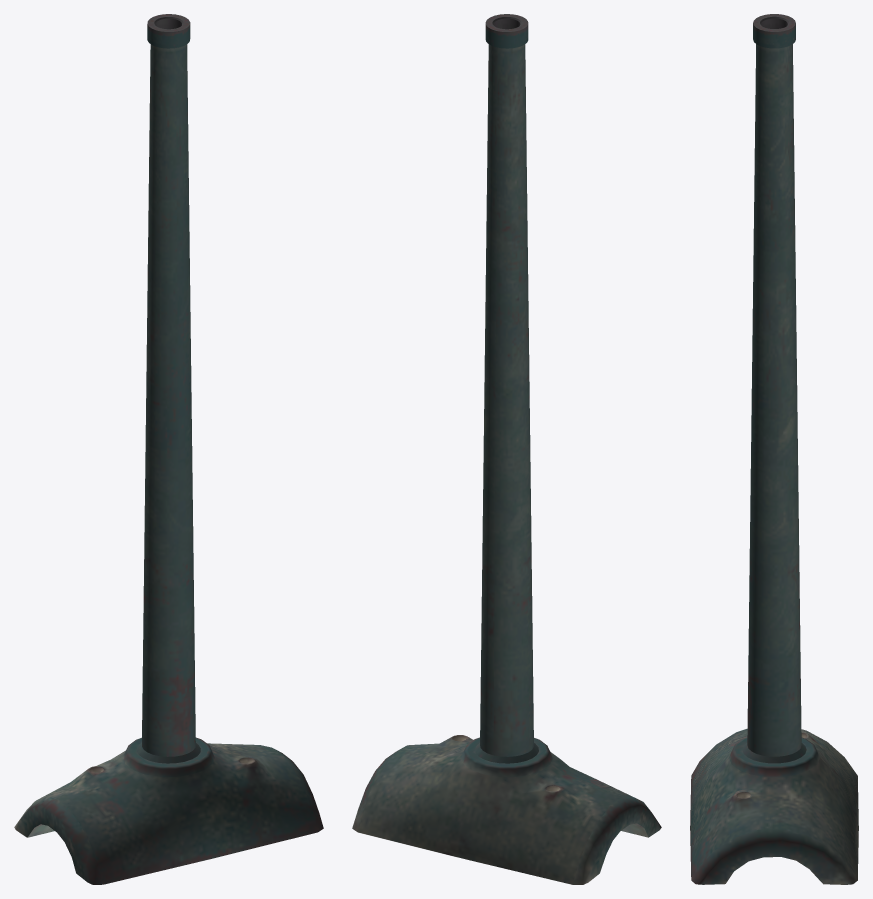
File: Gun_03.glb
3 views of the same model, side by side, from view 1: azimuth 30°, elevation 25°; view 2: azimuth 150°, elevation 25°; view 3: azimuth 270°, elevation 25° (orthographic).
Visible parts, largest first — view 1: set_0_group_0; view 2: set_0_group_0; view 3: set_0_group_0.
Boxes of the visible parts, left/top/right/bottom form: set_0_group_0: left=14, top=14, right=323, bottom=884; set_0_group_0: left=352, top=14, right=661, bottom=884; set_0_group_0: left=690, top=14, right=858, bottom=884.
Bounding box in the file's own units: 0.9112 × 2.99 × 0.568.
1 material, 1 textured.
